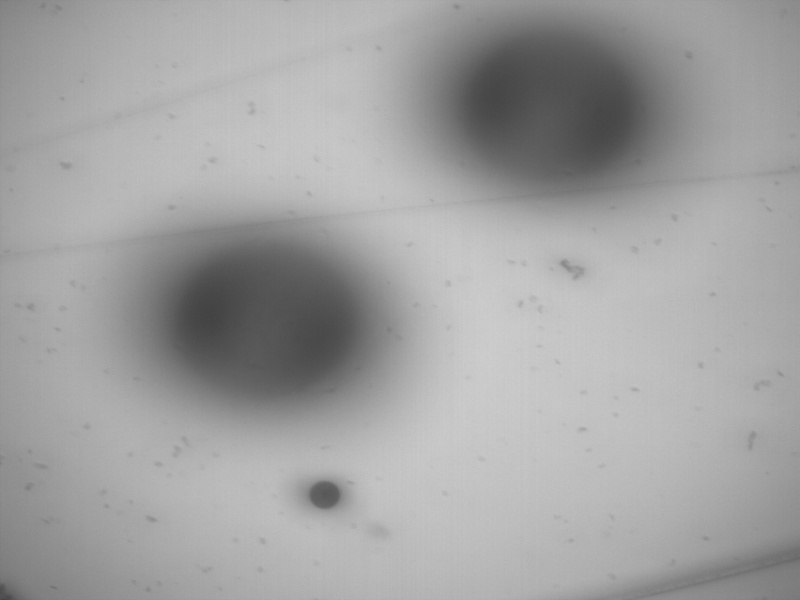bead: (175, 243, 356, 395), (465, 31, 644, 181), (309, 479, 342, 511)
